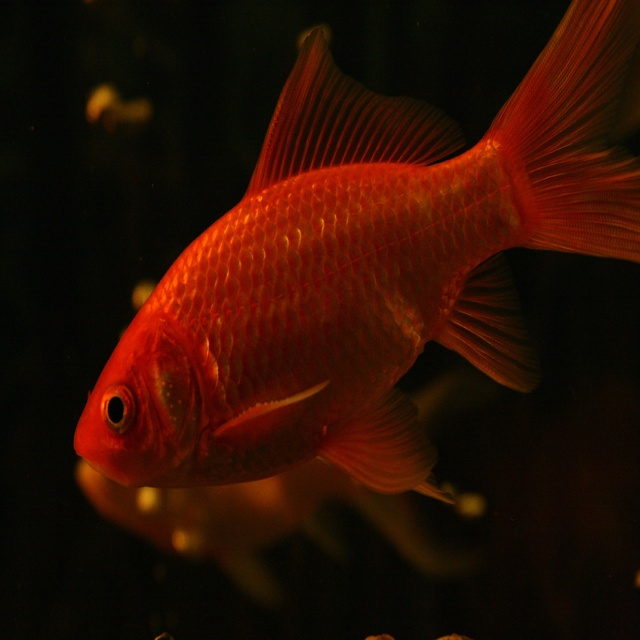Goldfish: (74, 0, 638, 495)
